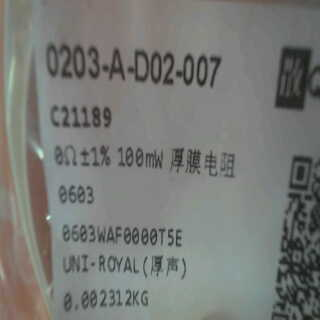0R: (47, 137, 113, 211)
